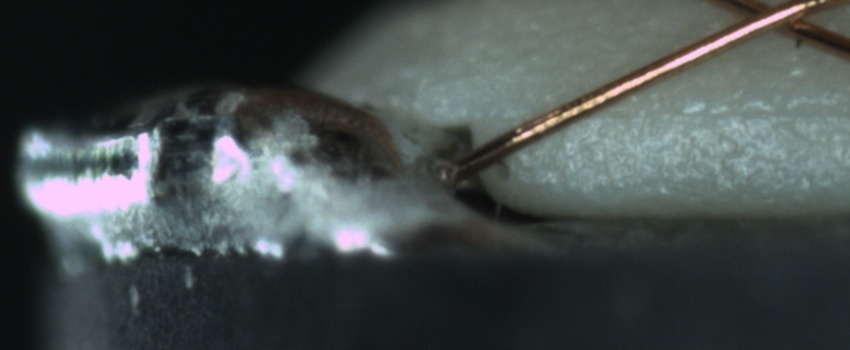CL: (713, 0, 829, 40)
DL: (573, 81, 843, 145)
